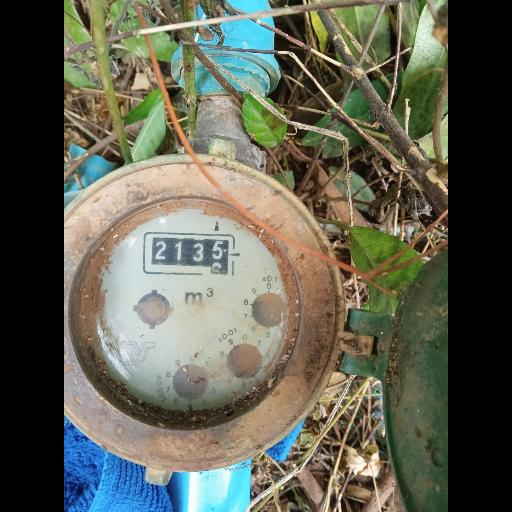1: (171, 238, 192, 266)
2: (152, 237, 172, 265)
3: (191, 238, 212, 267)
5: (211, 240, 229, 275)
border_water_meter_number: (143, 232, 235, 276)
